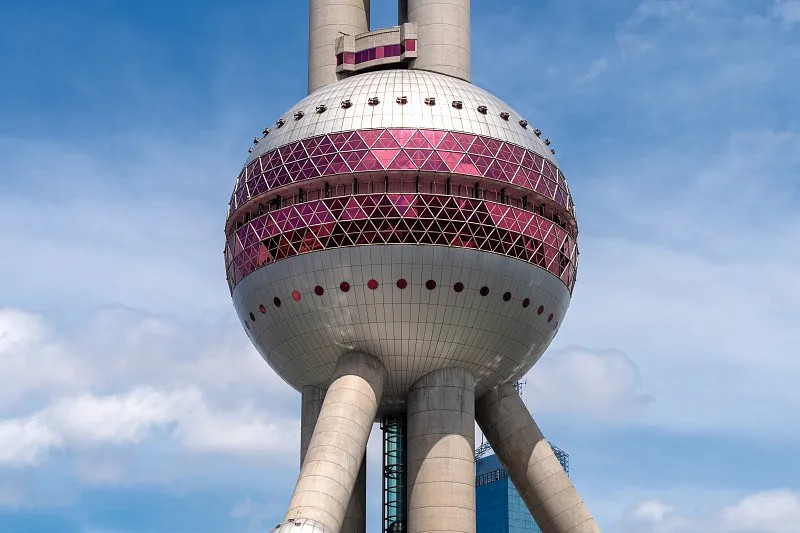Oriental: (225, 1, 600, 533)
